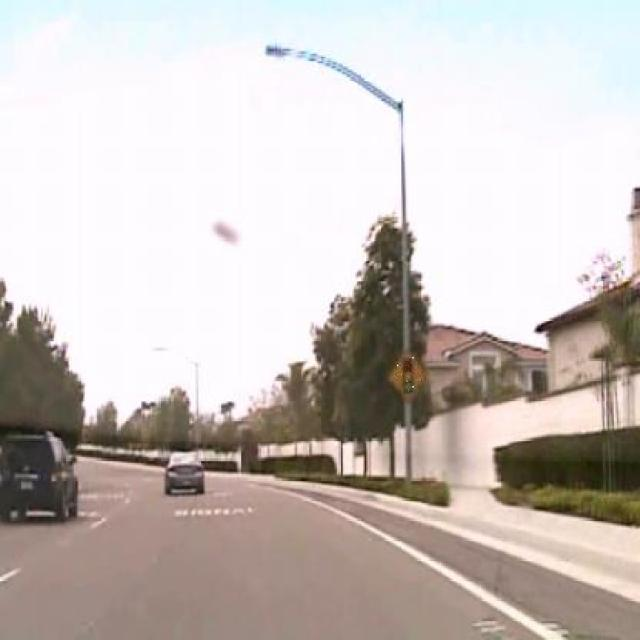signalAhead: (388, 348, 426, 404)
